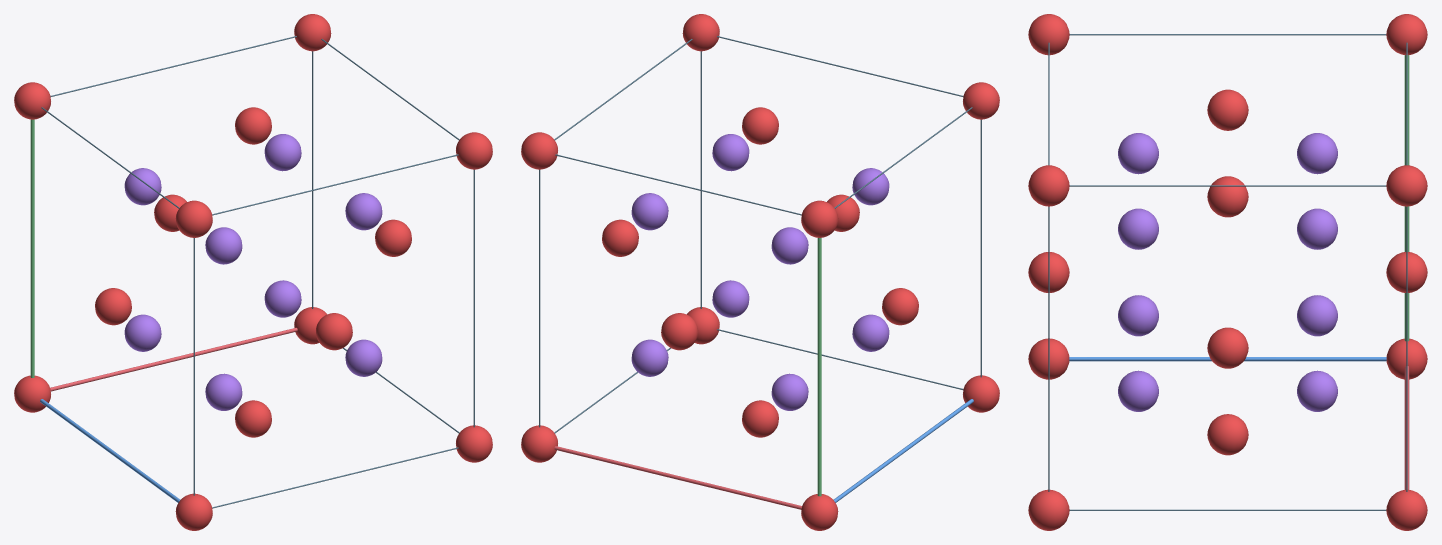
The model's file is chat-sodium-oxide.glb.
3 renders of one model, left to right at view 1: azimuth 30°, elevation 25°; view 2: azimuth 150°, elevation 25°; view 3: azimuth 270°, elevation 25°, orthographic. The views are drawn at different scales.
Parts seen in each view (by area): view 1: O · O · 1 (×14), Na · Na · 1 (×8), Ô mạng và các trục a, b, c; view 2: O · O · 1 (×14), Na · Na · 1 (×8), Ô mạng và các trục a, b, c; view 3: O · O · 1 (×14), Na · Na · 1 (×8), Ô mạng và các trục a, b, c.
Boxes of the visible parts, <box> form: O · O · 1 (×14): <box>14,14,492,530</box>; Na · Na · 1 (×8): <box>124,134,382,410</box>; Ô mạng và các trục a, b, c: <box>30,36,474,508</box>; O · O · 1 (×14): <box>521,14,999,530</box>; Na · Na · 1 (×8): <box>631,134,889,410</box>; Ô mạng và các trục a, b, c: <box>539,36,981,509</box>; O · O · 1 (×14): <box>1028,14,1427,530</box>; Na · Na · 1 (×8): <box>1118,133,1337,411</box>; Ô mạng và các trục a, b, c: <box>1048,34,1409,510</box>.
Bounding box in the file's own units: 6.19 × 6.19 × 6.19.
